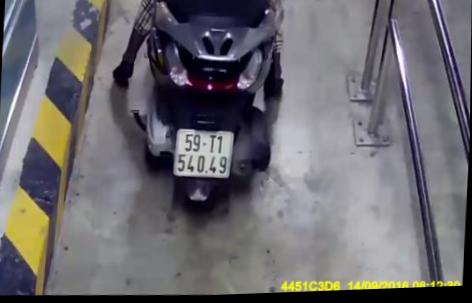LP: (172, 129, 235, 184)
